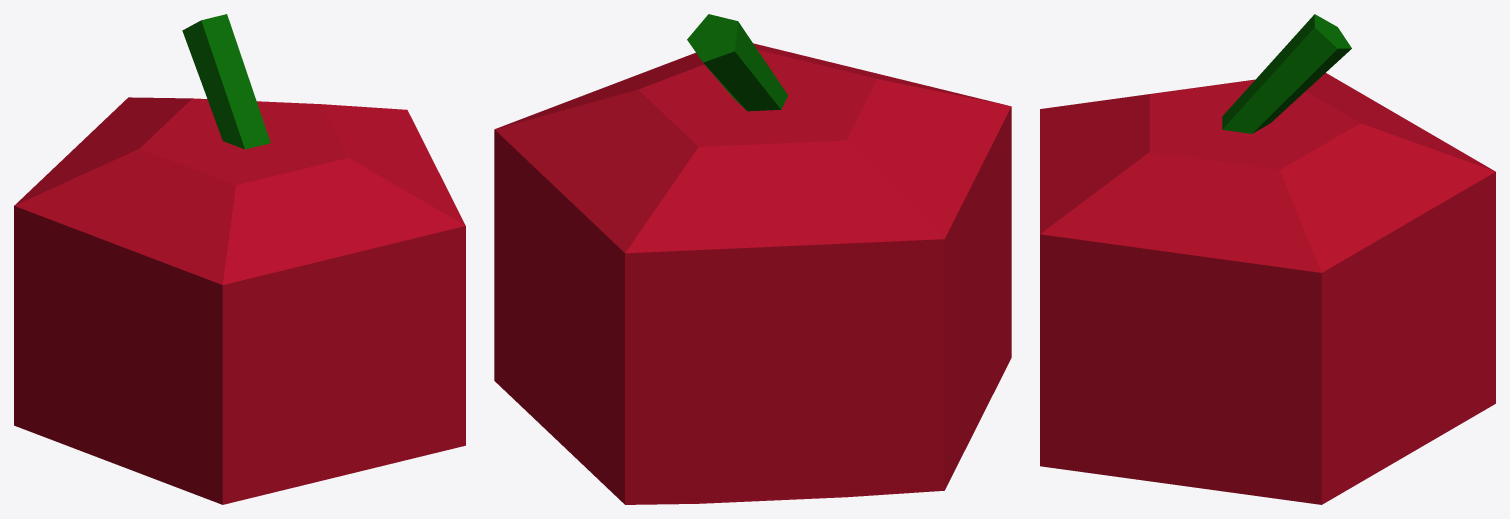
Rendered from tomato.fbx.
3 views of the same model, side by side, from view 1: azimuth 30°, elevation 25°; view 2: azimuth 150°, elevation 25°; view 3: azimuth 270°, elevation 25° (orthographic). The views are drawn at different scales.
Parts seen in each view (by area): view 1: tomato; view 2: tomato; view 3: tomato.
Boxes of the visible parts, x1,y1,x2,y2 form: tomato: (14, 14, 465, 504); tomato: (494, 14, 1011, 504); tomato: (1040, 14, 1495, 504).
Bounding box in the file's own units: 415 × 412 × 394.
